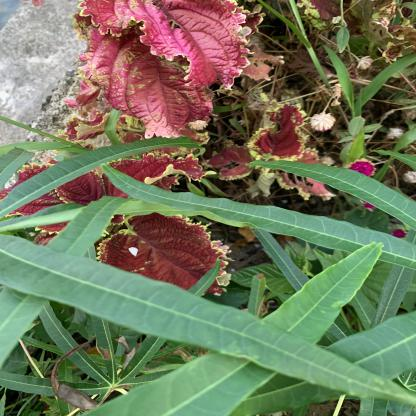Bunga Coleus: (68, 6, 261, 141), (108, 207, 221, 282), (229, 110, 318, 170), (52, 173, 134, 208)
